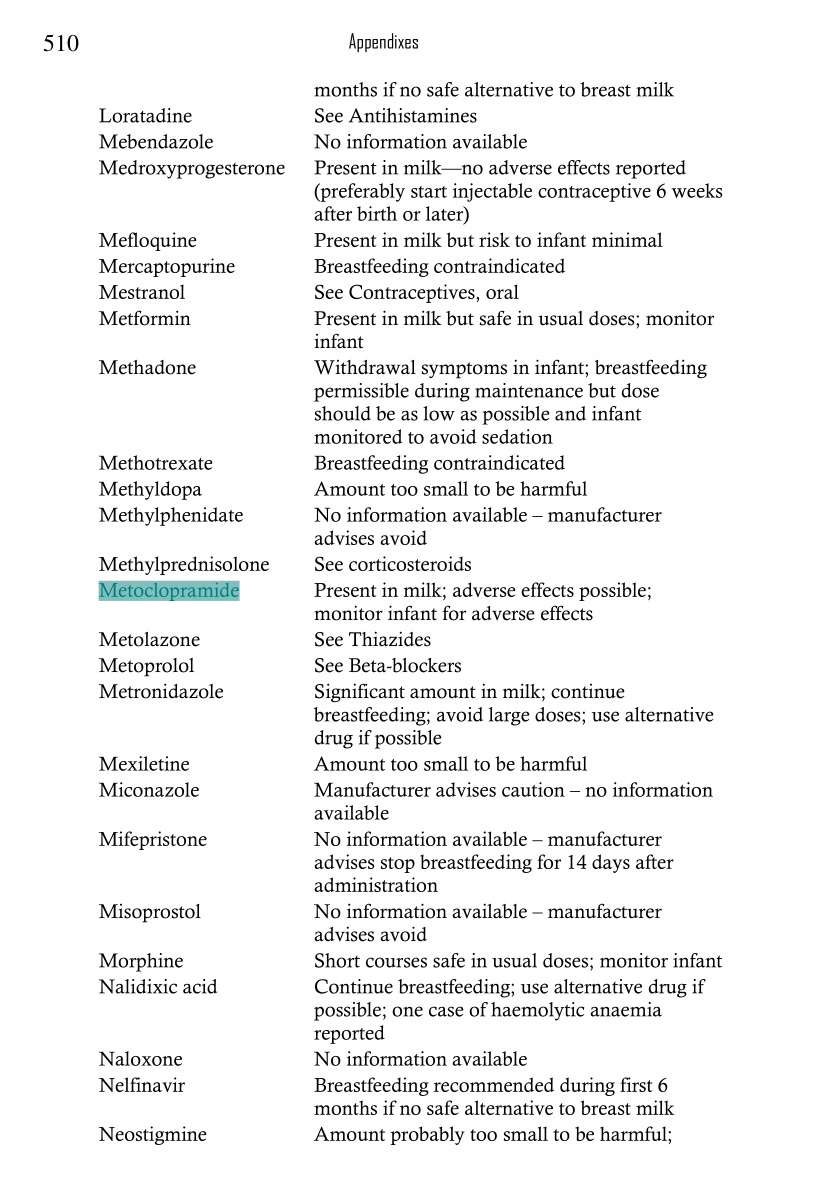nolines: (96, 79, 724, 1145)
